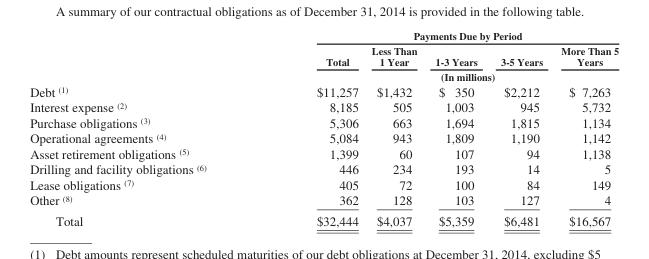table: (29, 29, 618, 227)
table column: (29, 29, 260, 227), (260, 29, 364, 227), (551, 29, 618, 227), (425, 29, 488, 227), (488, 29, 551, 227), (364, 29, 425, 227)
table column header: (29, 29, 618, 83)
table row: (29, 42, 618, 68), (29, 191, 618, 209), (29, 209, 618, 227), (29, 98, 618, 114), (29, 129, 618, 145), (29, 160, 618, 176), (29, 68, 618, 83), (29, 83, 618, 98), (29, 114, 618, 129), (29, 145, 618, 160), (29, 176, 618, 191), (29, 29, 618, 42)
table spanning cell: (260, 68, 618, 83), (260, 29, 618, 42)
